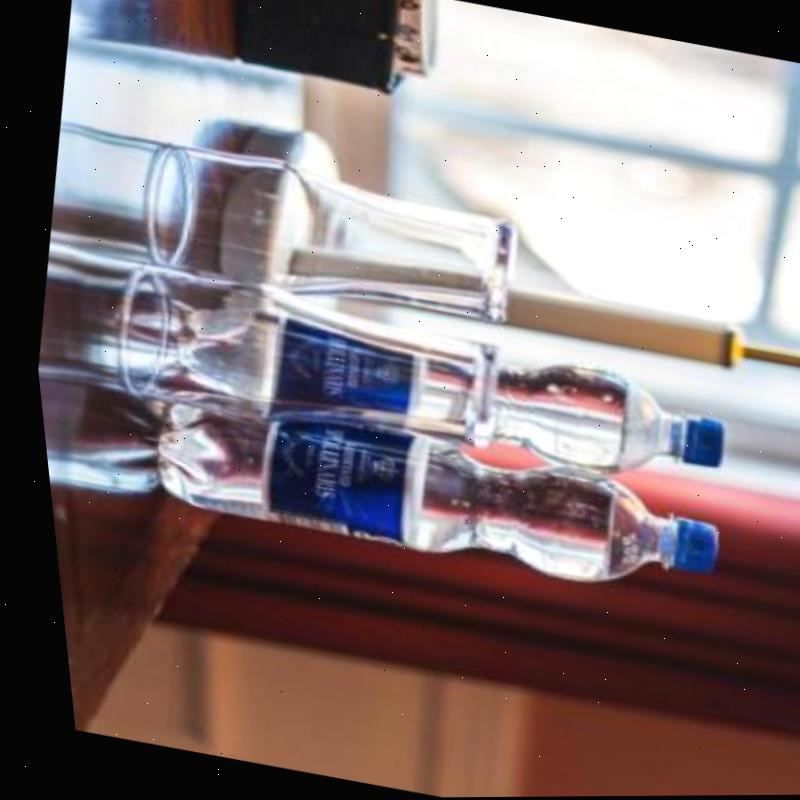botella: (129, 390, 719, 612), (142, 286, 728, 500)
